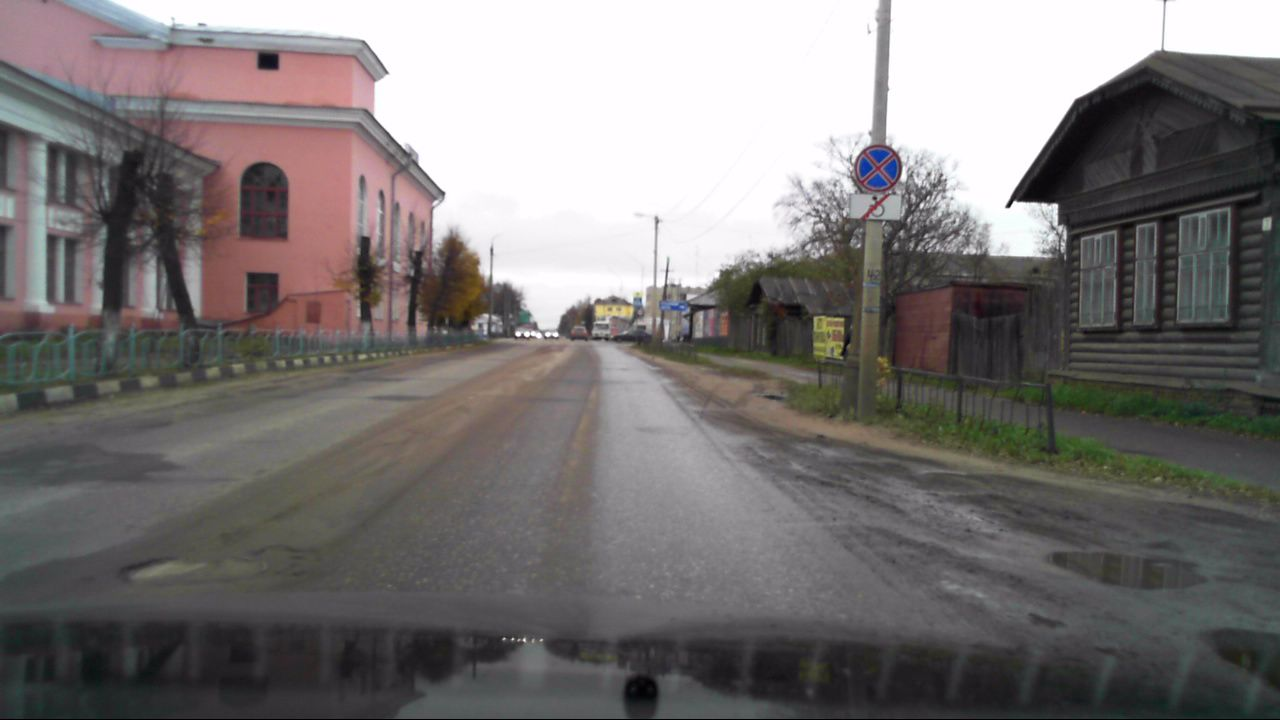No Parking: (855, 144, 901, 193)
